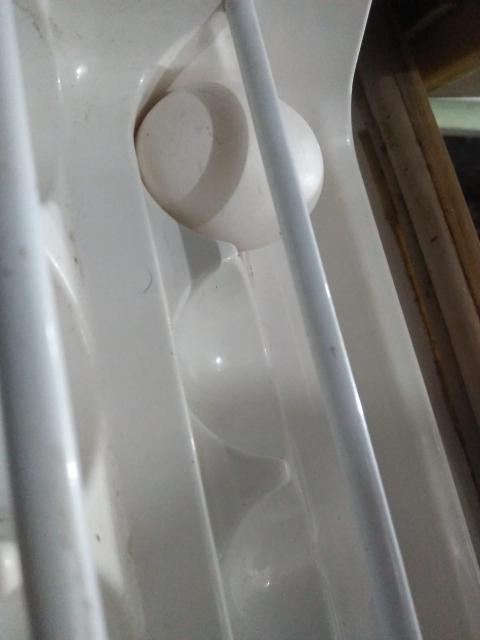Sano: (139, 76, 324, 249)
